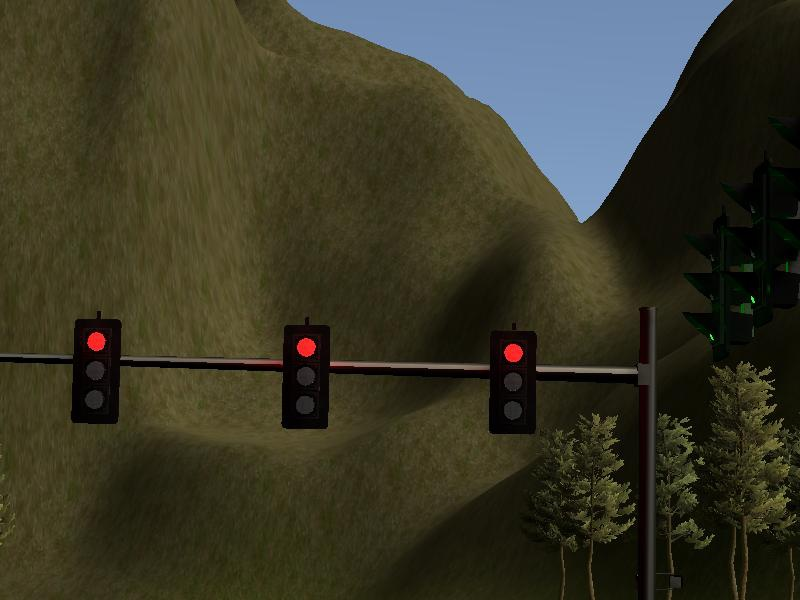Red: (73, 317, 123, 425), (281, 324, 331, 432), (487, 329, 537, 437)
